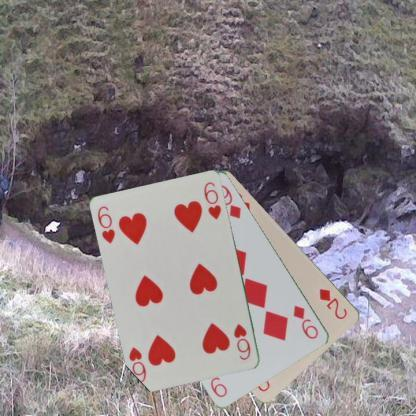2d: (316, 286, 350, 321)
6h: (94, 203, 116, 245), (232, 321, 252, 362)
9d: (290, 302, 320, 340)
